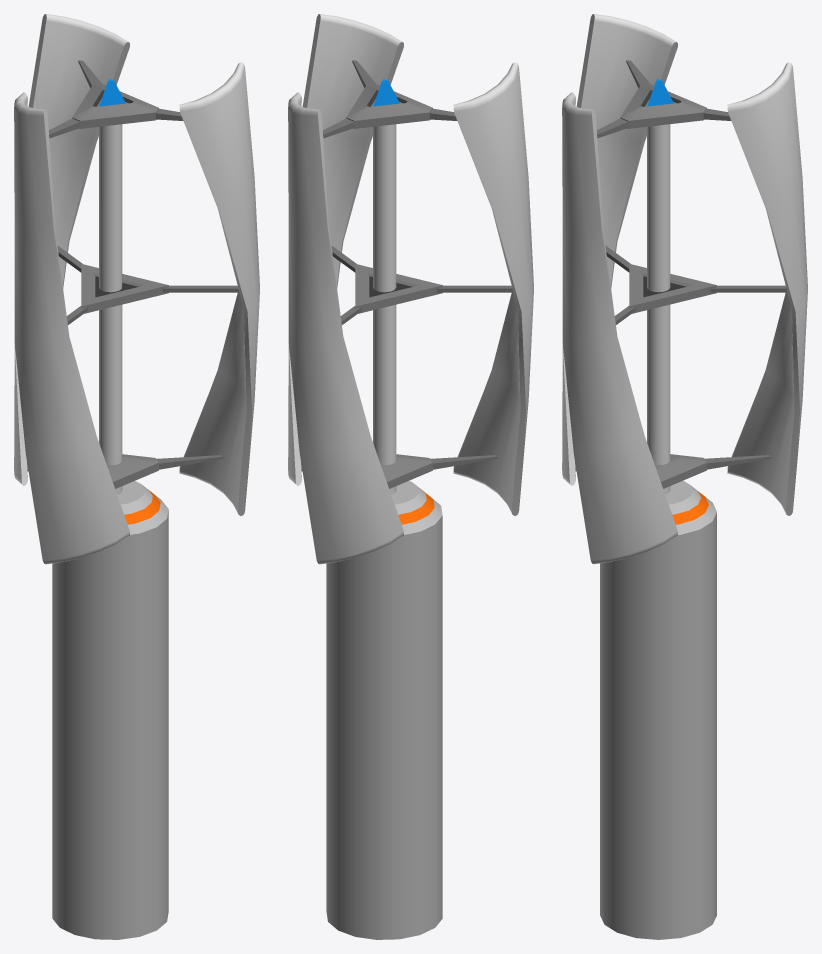
The model's file is Power_D.fbx.
3 renders of one model, left to right at view 1: azimuth 30°, elevation 25°; view 2: azimuth 150°, elevation 25°; view 3: azimuth 270°, elevation 25°, orthographic.
Visible parts, largest first — view 1: Cylinder, Blade.001, Blade.002, Blade.000, BladeJoint, BladeFrameCap.000, BladeFrameParent, BladeFrameCap.001, BladeFrame.002, BladeFrameCapExtrusion.005; view 2: Cylinder, Blade.000, Blade.001, Blade.002, BladeJoint, BladeFrameCap.000, BladeFrameParent, BladeFrameCap.001, BladeFrame.001, BladeFrameCapExtrusion.004; view 3: Cylinder, Blade.002, Blade.000, Blade.001, BladeJoint, BladeFrameCap.000, BladeFrameParent, BladeFrameCap.001, BladeFrame.000, BladeFrameCapExtrusion.003.
Boxes of the visible parts, bbox=[...] form: Cylinder: bbox=[52, 481, 168, 939]; Blade.001: bbox=[14, 92, 129, 564]; Blade.002: bbox=[179, 62, 259, 515]; Blade.000: bbox=[14, 14, 129, 485]; BladeJoint: bbox=[99, 124, 122, 494]; BladeFrameCap.000: bbox=[72, 79, 158, 128]; BladeFrameParent: bbox=[81, 264, 168, 313]; BladeFrameCap.001: bbox=[107, 454, 158, 488]; BladeFrame.002: bbox=[162, 285, 239, 292]; BladeFrameCapExtrusion.005: bbox=[156, 455, 223, 469]; Cylinder: bbox=[326, 481, 442, 939]; Blade.000: bbox=[288, 92, 403, 564]; Blade.001: bbox=[453, 62, 533, 515]; Blade.002: bbox=[288, 14, 403, 485]; BladeJoint: bbox=[373, 124, 396, 494]; BladeFrameCap.000: bbox=[346, 79, 432, 128]; BladeFrameParent: bbox=[355, 264, 442, 313]; BladeFrameCap.001: bbox=[381, 454, 432, 488]; BladeFrame.001: bbox=[436, 285, 513, 292]; BladeFrameCapExtrusion.004: bbox=[430, 455, 497, 469]; Cylinder: bbox=[600, 480, 716, 939]; Blade.002: bbox=[562, 92, 677, 564]; Blade.000: bbox=[727, 62, 807, 515]; Blade.001: bbox=[562, 14, 677, 485]; BladeJoint: bbox=[647, 124, 670, 494]; BladeFrameCap.000: bbox=[620, 79, 706, 128]; BladeFrameParent: bbox=[629, 264, 716, 313]; BladeFrameCap.001: bbox=[655, 454, 706, 488]; BladeFrame.000: bbox=[710, 285, 787, 292]; BladeFrameCapExtrusion.003: bbox=[704, 455, 771, 469].
Bounding box in the file's own units: 1.16 × 4.02 × 1.05.
